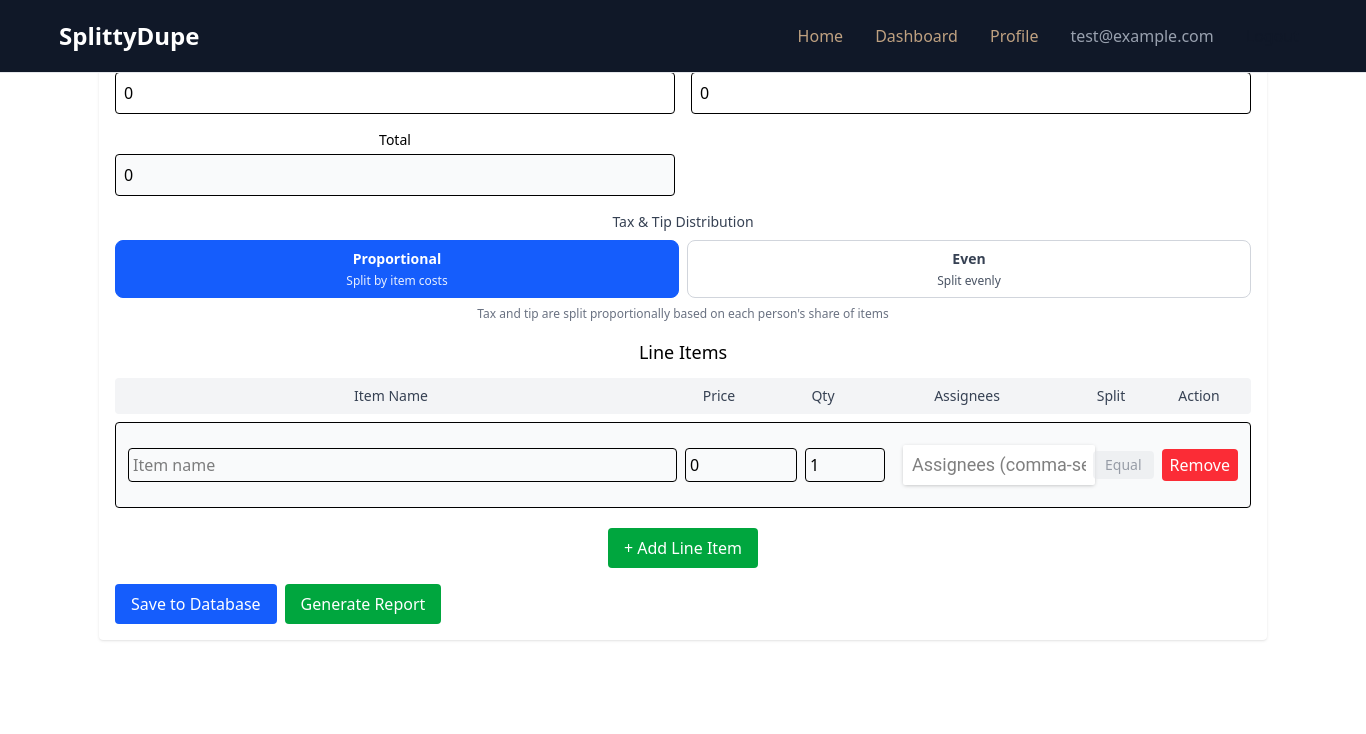
Test: Home Page Integration Tests › should save receipt to database successfully
The image size is (1366, 734).
Click the button "Save to Database" at (196, 604), box [115, 584, 277, 624]
(page scrolled)
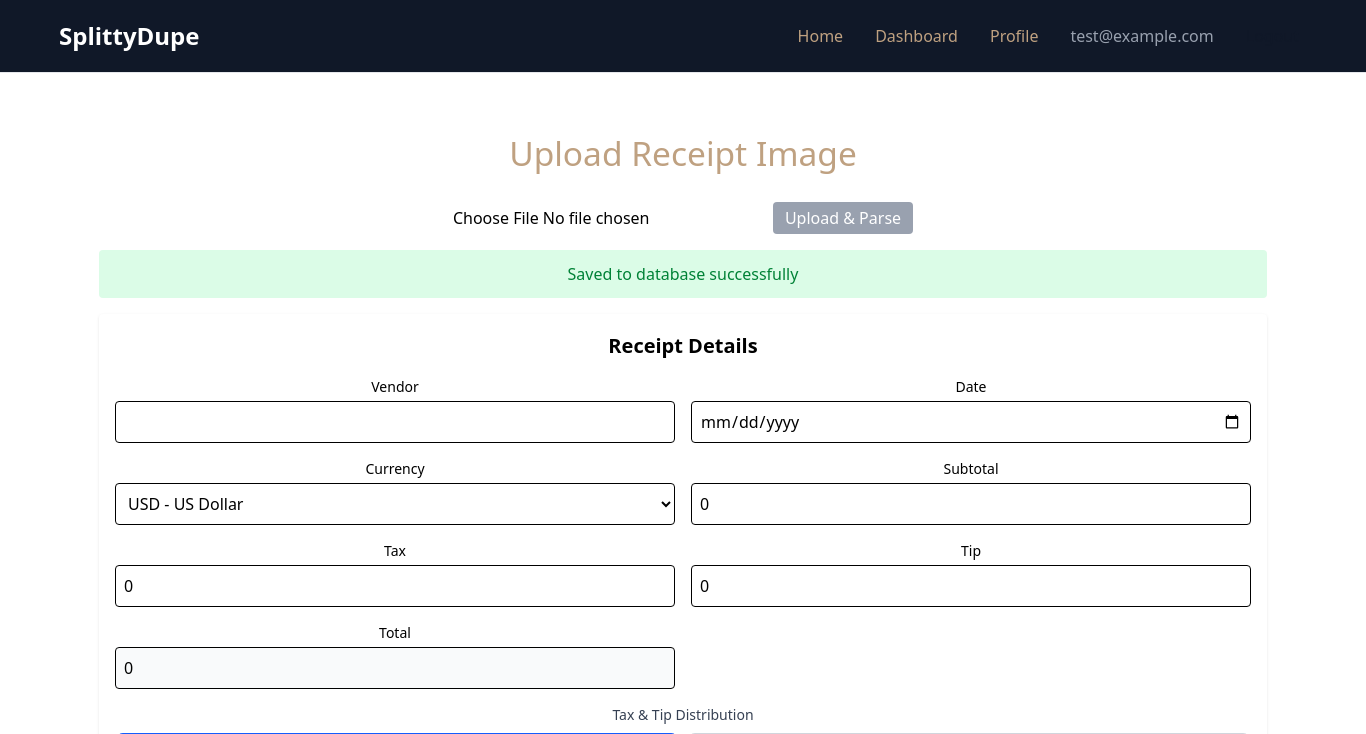
Expected: the text "Saved to database successfully" is shown, [99, 250, 1267, 298]
